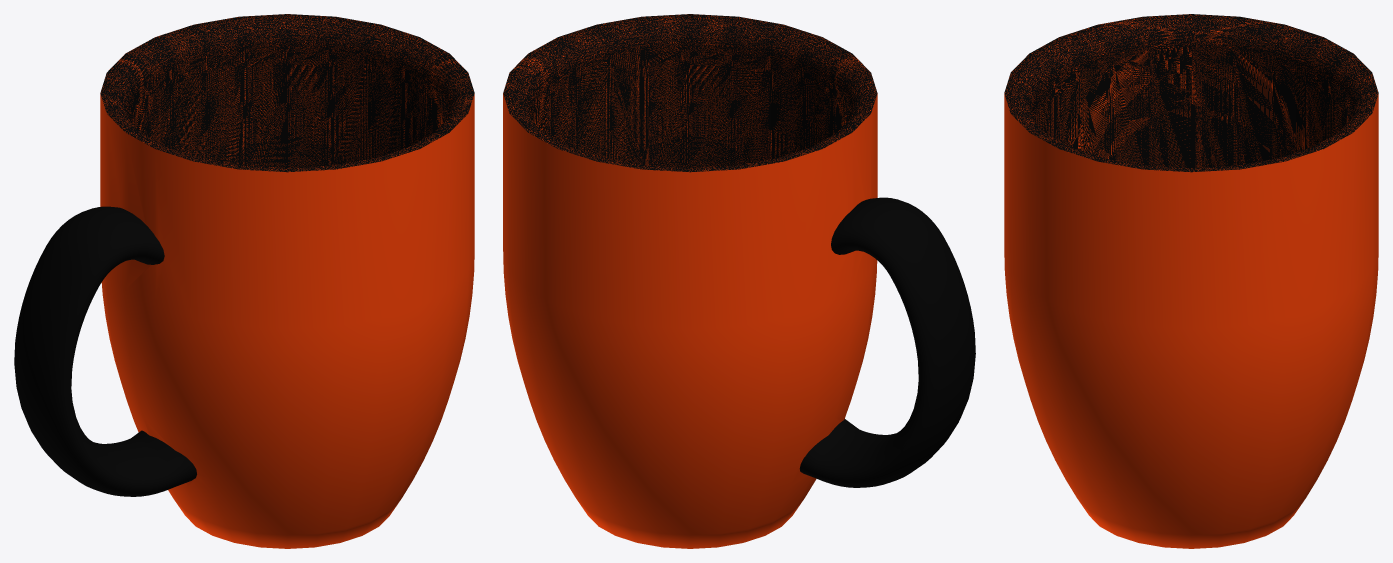
File: mug_17_origin_gt_7.dae
3 renders of one model, left to right at view 1: azimuth 30°, elevation 25°; view 2: azimuth 150°, elevation 25°; view 3: azimuth 270°, elevation 25°, orthographic.
Parts seen in each view (by area): view 1: group_0, group_1; view 2: group_0, group_1; view 3: group_0.
Part boxes in pixels (box(x1,y1,x2,y2)): group_0: box(100, 14, 474, 548); group_1: box(14, 206, 196, 496); group_0: box(503, 14, 877, 548); group_1: box(799, 197, 975, 487); group_0: box(1004, 14, 1378, 548).
Size of the model in its own units: 4.12 by 3.11 by 3.77.
